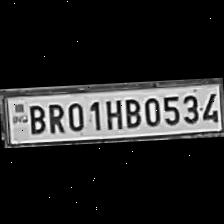0: (62, 97, 86, 130), (140, 92, 160, 126)
1: (84, 97, 104, 131)
3: (179, 90, 199, 124)
4: (197, 88, 219, 122)
5: (158, 90, 180, 124)
B: (24, 100, 46, 134), (120, 92, 140, 128)
H: (100, 95, 122, 129)
R: (44, 99, 66, 134)
